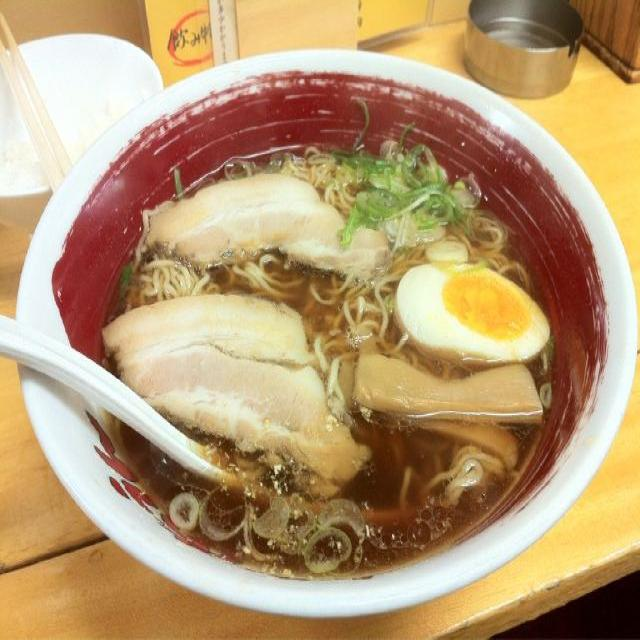面条主食: (2, 38, 640, 626)
